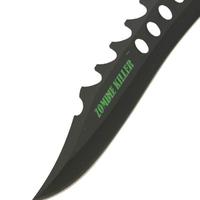knife: (28, 1, 172, 199)
